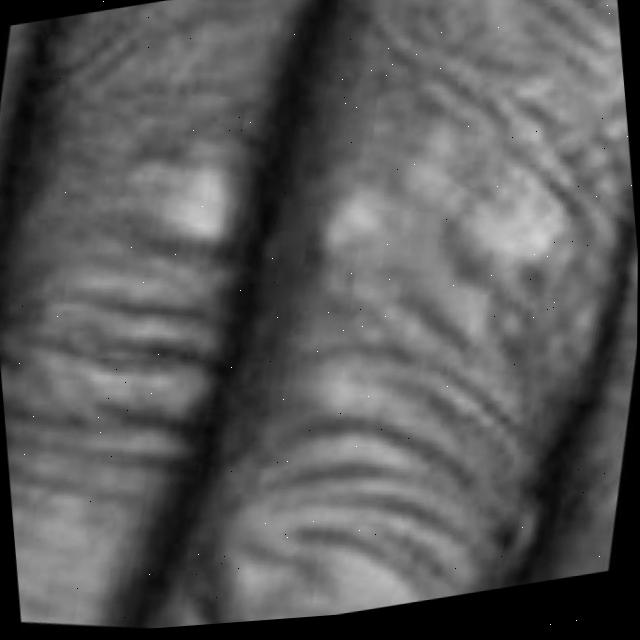Eczema: (24, 90, 639, 584)
